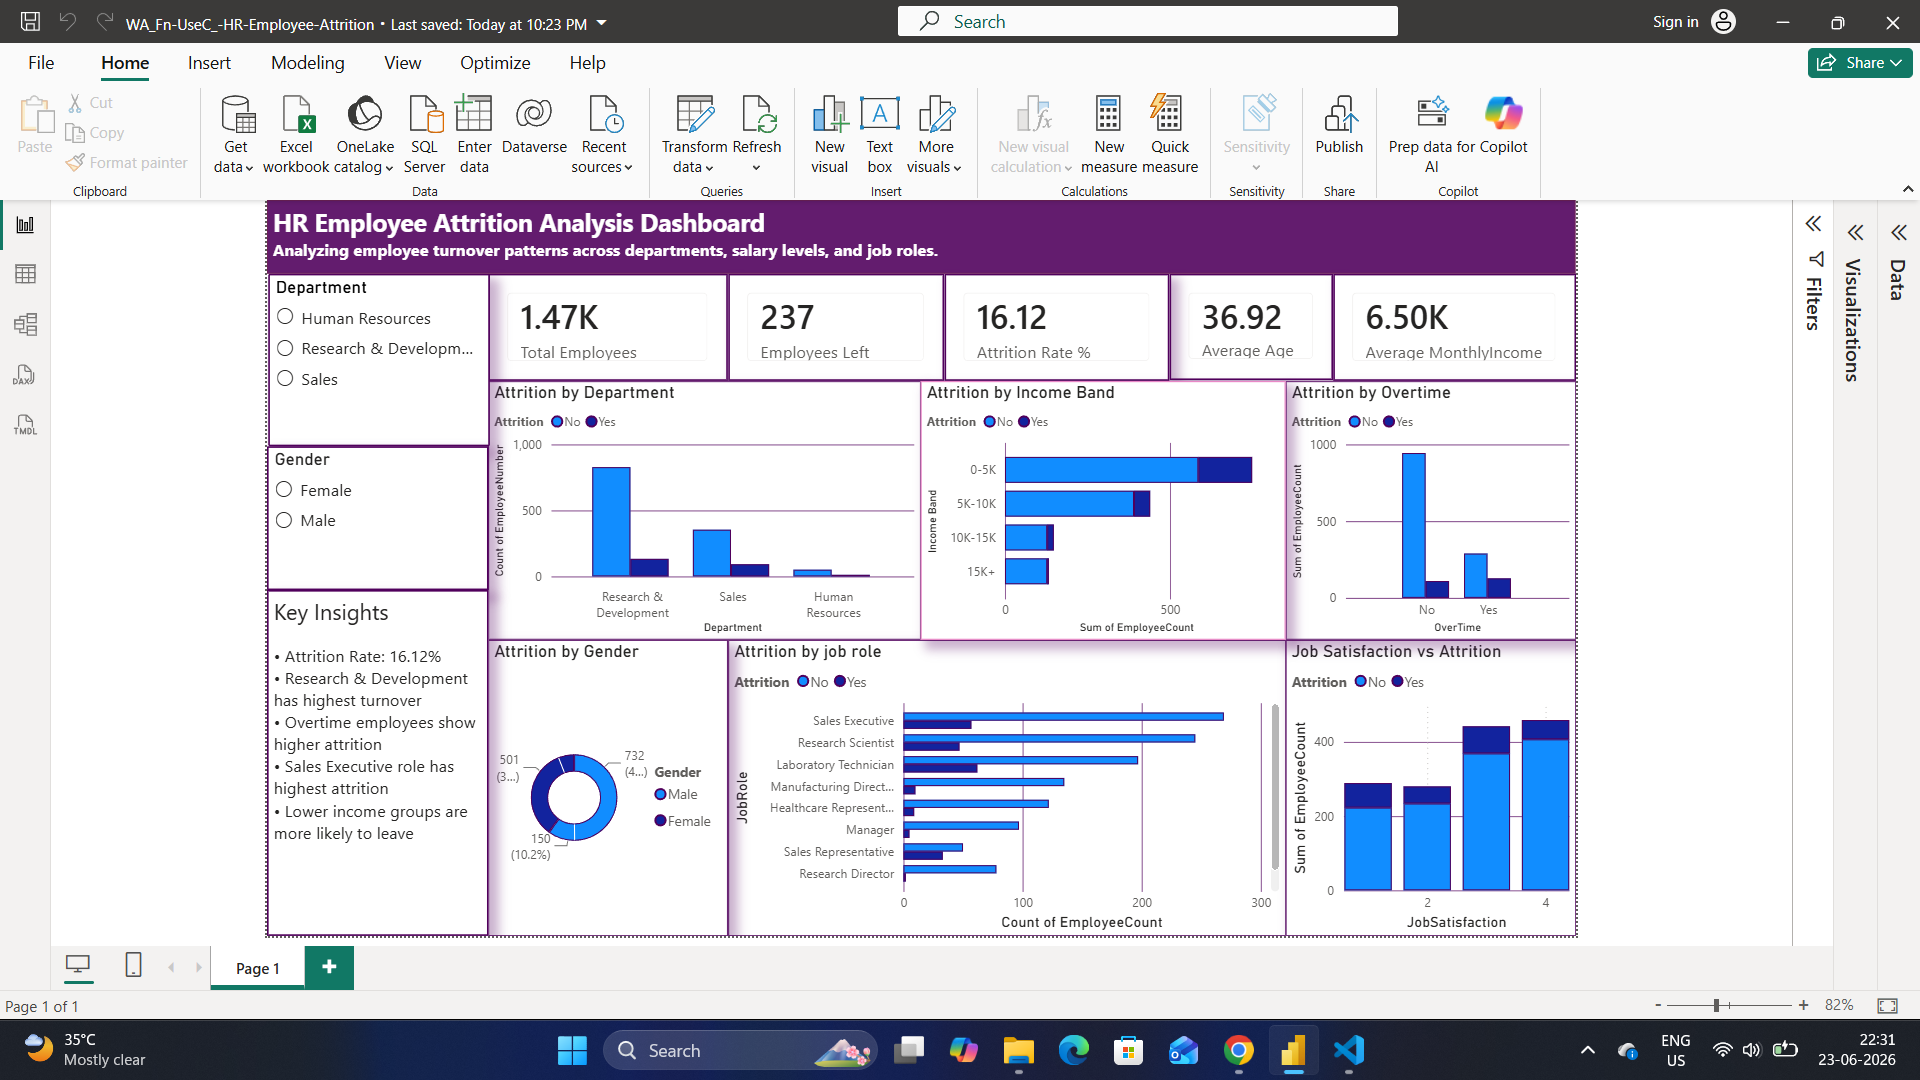

Layout of this report page (visuals, bound fields, positions):
{"tool":"powerbi","page":{"name":"Page 1","canvas":[1280,720],"ordinal":0},"visuals":[{"type":"cardVisual","title":"Total Employees","fields":{"Data":["Count(WA_Fn-UseC_-HR-Employee-Attrition.EmployeeNumber)"]},"box":[216.4,72.1,234.8,105.2],"z":0},{"type":"cardVisual","fields":{"Data":["Avg(WA_Fn-UseC_-HR-Employee-Attrition.Age)"]},"box":[882.9,72.1,160.2,103.9],"z":1000},{"type":"cardVisual","fields":{"Data":["Avg(WA_Fn-UseC_-HR-Employee-Attrition.MonthlyIncome)"]},"box":[1043.1,72.1,237.2,105.2],"z":2000},{"type":"cardVisual","fields":{"Data":["WA_Fn-UseC_-HR-Employee-Attrition.Employees Left"]},"box":[451.2,72.1,211.6,105.2],"z":3000},{"type":"cardVisual","fields":{"Data":["WA_Fn-UseC_-HR-Employee-Attrition.Attrition Rate %"]},"box":[662.8,72.1,220.1,105.2],"z":4000},{"type":"clusteredColumnChart","title":"Attrition by Department","fields":{"Category":["WA_Fn-UseC_-HR-Employee-Attrition.Department"],"Y":["CountNonNull(WA_Fn-UseC_-HR-Employee-Attrition.EmployeeNumber)"],"Series":["WA_Fn-UseC_-HR-Employee-Attrition.Attrition"]},"box":[216.4,177.3,423.1,253.1],"z":5000},{"type":"clusteredBarChart","title":"Attrition by job role","fields":{"Category":["WA_Fn-UseC_-HR-Employee-Attrition.JobRole"],"Series":["WA_Fn-UseC_-HR-Employee-Attrition.Attrition"],"Y":["CountNonNull(WA_Fn-UseC_-HR-Employee-Attrition.EmployeeCount)"]},"box":[451.2,430.4,545.4,289.8],"z":6000},{"type":"columnChart","title":"Job Satisfaction vs Attrition","fields":{"Y":["Sum(WA_Fn-UseC_-HR-Employee-Attrition.EmployeeCount)"],"Category":["WA_Fn-UseC_-HR-Employee-Attrition.JobSatisfaction"],"Series":["WA_Fn-UseC_-HR-Employee-Attrition.Attrition"]},"box":[996.6,430.4,283.7,289.8],"z":7000},{"type":"listSlicer","fields":{"Values":["WA_Fn-UseC_-HR-Employee-Attrition.Department"]},"box":[1.2,72.1,216.4,168.8],"z":8000},{"type":"listSlicer","fields":{"Values":["WA_Fn-UseC_-HR-Employee-Attrition.Gender"]},"box":[0,240.9,216.4,140.6],"z":9000},{"type":"donutChart","title":"Attrition by Gender","fields":{"Category":["WA_Fn-UseC_-HR-Employee-Attrition.Gender"],"Y":["Sum(WA_Fn-UseC_-HR-Employee-Attrition.EmployeeCount)"],"Series":["WA_Fn-UseC_-HR-Employee-Attrition.Attrition"]},"box":[216.4,430.4,234.8,289.8],"z":10000},{"type":"clusteredColumnChart","title":"Attrition by Overtime","fields":{"Category":["WA_Fn-UseC_-HR-Employee-Attrition.OverTime"],"Y":["Sum(WA_Fn-UseC_-HR-Employee-Attrition.EmployeeCount)"],"Series":["WA_Fn-UseC_-HR-Employee-Attrition.Attrition"]},"box":[996.6,177.3,283.7,253.1],"z":11000},{"type":"textbox","box":[0,0,1280.3,72.1],"z":12000},{"type":"barChart","title":"Attrition by Income Band","fields":{"Category":["WA_Fn-UseC_-HR-Employee-Attrition.Income Band"],"Y":["Sum(WA_Fn-UseC_-HR-Employee-Attrition.EmployeeCount)"],"Series":["WA_Fn-UseC_-HR-Employee-Attrition.Attrition"]},"box":[639.5,177.3,357.1,253.1],"z":13000},{"type":"textbox","box":[0,381.5,216.4,338.7],"z":14000}]}

Visuals, with their boxes on the page's 1280x720 design canvas (x1, y1, x2, y2). These are canvas units, not pixel positions in the 1920x1080 screenshot, which may show the page scaled, cropped or inside an application window:
"Total Employees" cardVisual: locate(216, 72, 451, 177)
cardVisual - Avg(WA_Fn-UseC_-HR-Employee-Attrition.Age): locate(883, 72, 1043, 176)
cardVisual - Avg(WA_Fn-UseC_-HR-Employee-Attrition.MonthlyIncome): locate(1043, 72, 1280, 177)
cardVisual - WA_Fn-UseC_-HR-Employee-Attrition.Employees Left: locate(451, 72, 663, 177)
cardVisual - WA_Fn-UseC_-HR-Employee-Attrition.Attrition Rate %: locate(663, 72, 883, 177)
"Attrition by Department" clusteredColumnChart: locate(216, 177, 640, 430)
"Attrition by job role" clusteredBarChart: locate(451, 430, 997, 720)
"Job Satisfaction vs Attrition" columnChart: locate(997, 430, 1280, 720)
listSlicer - WA_Fn-UseC_-HR-Employee-Attrition.Department: locate(1, 72, 218, 241)
listSlicer - WA_Fn-UseC_-HR-Employee-Attrition.Gender: locate(0, 241, 216, 382)
"Attrition by Gender" donutChart: locate(216, 430, 451, 720)
"Attrition by Overtime" clusteredColumnChart: locate(997, 177, 1280, 430)
textbox: locate(0, 0, 1280, 72)
"Attrition by Income Band" barChart: locate(640, 177, 997, 430)
textbox: locate(0, 382, 216, 720)
